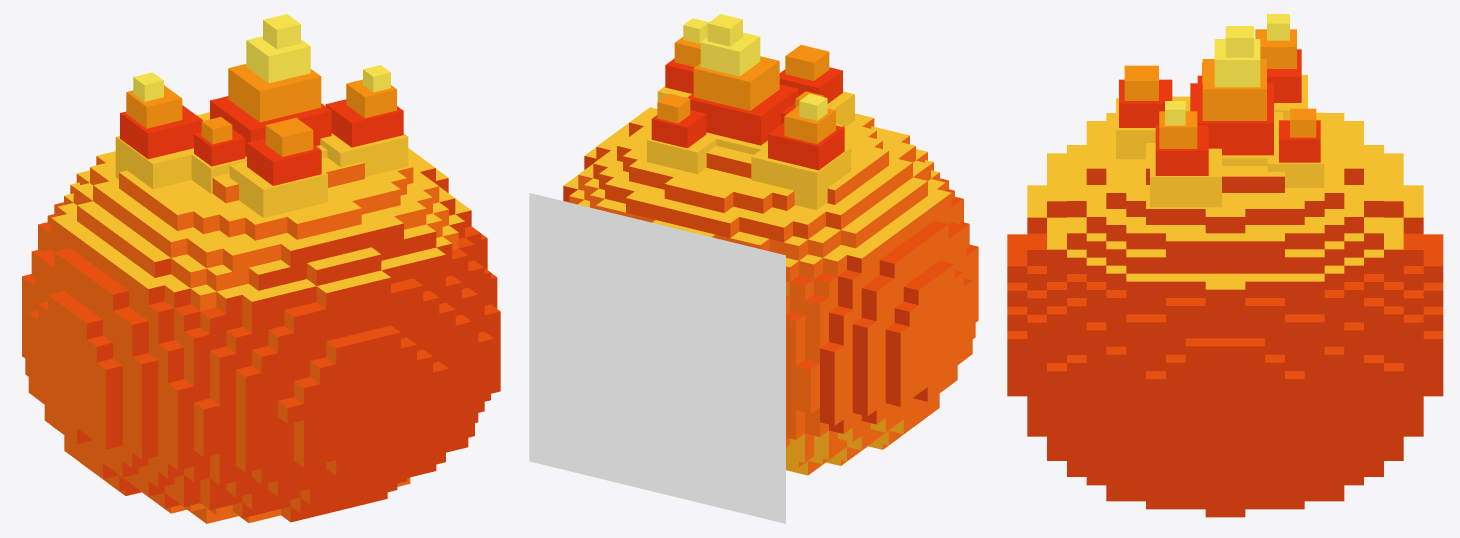
Rendered from slime_pyro_large.glb.
3 renders of one model, left to right at view 1: azimuth 30°, elevation 25°; view 2: azimuth 150°, elevation 25°; view 3: azimuth 270°, elevation 25°, orthographic. The views are drawn at different scales.
Visible parts, largest first — view 1: Shell, PyroFlames; view 2: Face, Shell, PyroFlames; view 3: Shell, PyroFlames.
Part boxes in pixels (x1,y1,x2,y2): Shell: (22, 112, 500, 523); PyroFlames: (115, 14, 408, 217); Face: (529, 193, 785, 523); Shell: (563, 107, 978, 475); PyroFlames: (647, 14, 854, 210); Shell: (1007, 96, 1443, 517); PyroFlames: (1116, 14, 1324, 207).
Bounding box in the file's own units: 1.88 × 1.99 × 1.81.
